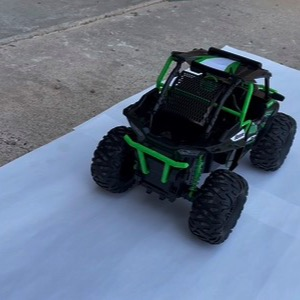polaris: (90, 47, 297, 247)
